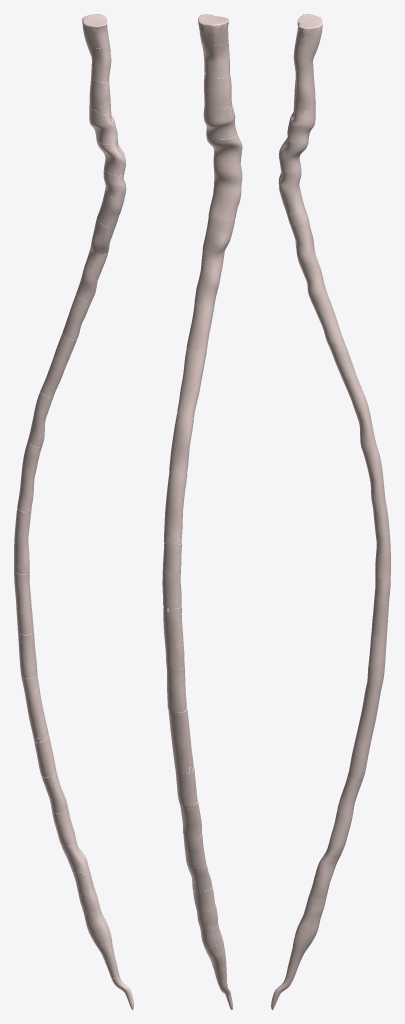
Rendered from nervous_central.back.glb.
3 views of the same model, side by side, from view 1: azimuth 90°, elevation 25°; view 2: azimuth 150°, elevation 25°; view 3: azimuth 270°, elevation 25° (orthographic).
Visible parts, largest first — view 1: spinal_cord, t8_segment_of_spinal_cord, t10_segment_of_spinal_cord, t7_segment_of_spinal_cord, t6_segment_of_spinal_cord, t4_segment_of_spinal_cord, t2_segment_of_spinal_cord, t3_segment_of_spinal_cord, c4_segment_of_spinal_cord, c5_segment_of_spinal_cord, t9_segment_of_spinal_cord, t11_segment_of_spinal_cord (+10 smaller); view 2: spinal_cord, t6_segment_of_spinal_cord, t7_segment_of_spinal_cord, t10_segment_of_spinal_cord, t8_segment_of_spinal_cord, t5_segment_of_spinal_cord, t4_segment_of_spinal_cord, t2_segment_of_spinal_cord, t3_segment_of_spinal_cord, c4_segment_of_spinal_cord, t1_segment_of_spinal_cord, c5_segment_of_spinal_cord (+13 smaller); view 3: spinal_cord, t6_segment_of_spinal_cord, t7_segment_of_spinal_cord, t2_segment_of_spinal_cord, t5_segment_of_spinal_cord, t4_segment_of_spinal_cord, t8_segment_of_spinal_cord, c4_segment_of_spinal_cord, t10_segment_of_spinal_cord, t9_segment_of_spinal_cord, t3_segment_of_spinal_cord, c6_segment_of_spinal_cord (+6 smaller).
Boxes of the visible parts, left/top/right/bottom form: spinal_cord: left=14, top=14, right=132, bottom=1009; t8_segment_of_spinal_cord: left=14, top=570, right=33, bottom=634; t10_segment_of_spinal_cord: left=21, top=674, right=47, bottom=742; t7_segment_of_spinal_cord: left=14, top=508, right=30, bottom=574; t6_segment_of_spinal_cord: left=17, top=441, right=41, bottom=511; t4_segment_of_spinal_cord: left=42, top=339, right=74, bottom=397; t2_segment_of_spinal_cord: left=76, top=251, right=107, bottom=301; t3_segment_of_spinal_cord: left=62, top=295, right=90, bottom=339; c4_segment_of_spinal_cord: left=89, top=80, right=111, bottom=117; c5_segment_of_spinal_cord: left=89, top=108, right=117, bottom=144; t9_segment_of_spinal_cord: left=19, top=630, right=37, bottom=678; t11_segment_of_spinal_cord: left=34, top=732, right=55, bottom=777; spinal_cord: left=162, top=15, right=242, bottom=1009; t6_segment_of_spinal_cord: left=164, top=471, right=187, bottom=544; t7_segment_of_spinal_cord: left=162, top=542, right=181, bottom=611; t10_segment_of_spinal_cord: left=168, top=709, right=193, bottom=773; t8_segment_of_spinal_cord: left=163, top=607, right=184, bottom=669; t5_segment_of_spinal_cord: left=170, top=411, right=193, bottom=472; t4_segment_of_spinal_cord: left=177, top=348, right=206, bottom=417; t2_segment_of_spinal_cord: left=194, top=250, right=224, bottom=306; t3_segment_of_spinal_cord: left=188, top=304, right=214, bottom=351; c4_segment_of_spinal_cord: left=204, top=74, right=231, bottom=108; t1_segment_of_spinal_cord: left=203, top=218, right=234, bottom=253; c5_segment_of_spinal_cord: left=204, top=106, right=237, bottom=139; spinal_cord: left=272, top=14, right=390, bottom=1007; t6_segment_of_spinal_cord: left=362, top=446, right=387, bottom=517; t7_segment_of_spinal_cord: left=373, top=511, right=390, bottom=579; t2_segment_of_spinal_cord: left=297, top=251, right=328, bottom=305; t5_segment_of_spinal_cord: left=353, top=395, right=376, bottom=452; t4_segment_of_spinal_cord: left=332, top=337, right=362, bottom=400; t8_segment_of_spinal_cord: left=371, top=576, right=390, bottom=637; c4_segment_of_spinal_cord: left=293, top=76, right=315, bottom=114; t10_segment_of_spinal_cord: left=357, top=679, right=383, bottom=743; t9_segment_of_spinal_cord: left=367, top=631, right=386, bottom=680; t3_segment_of_spinal_cord: left=313, top=299, right=342, bottom=344; c6_segment_of_spinal_cord: left=279, top=138, right=308, bottom=172.
Size of the model in its own units: 0.0148 by 0.4453 by 0.0489.
